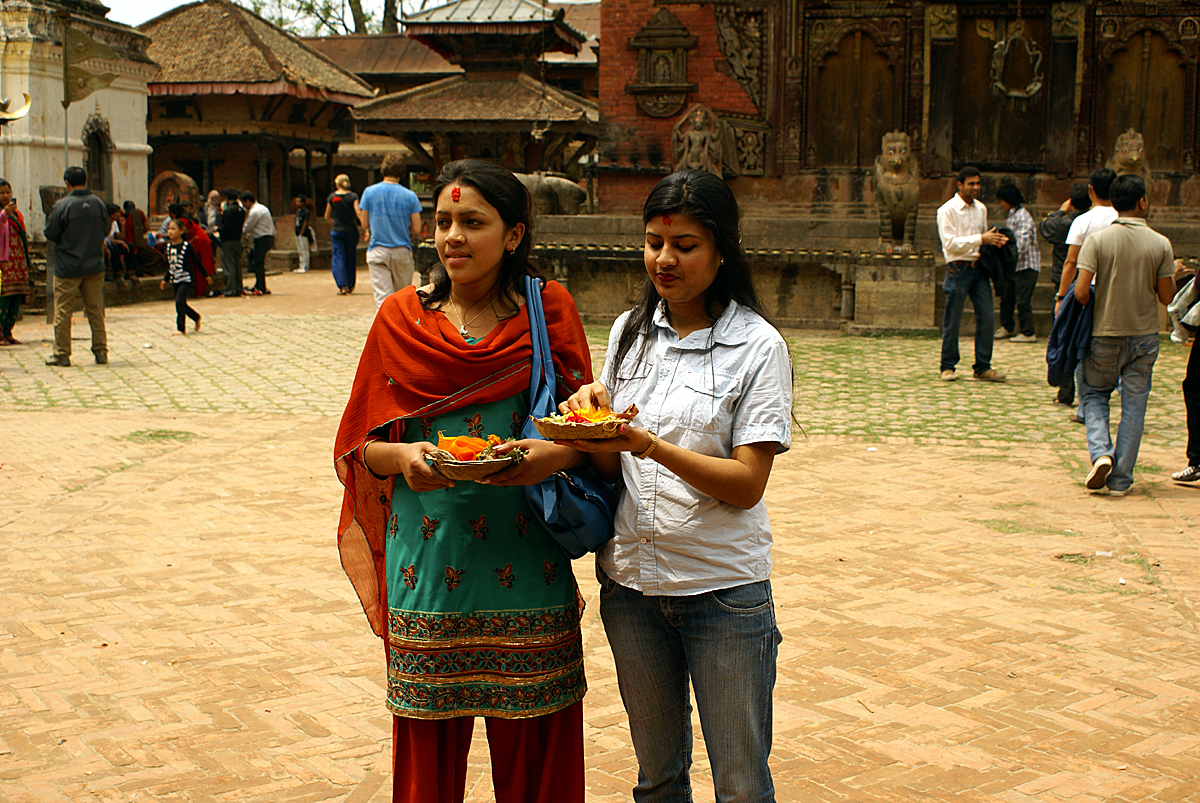human: (317, 151, 597, 803), (552, 156, 806, 803)
